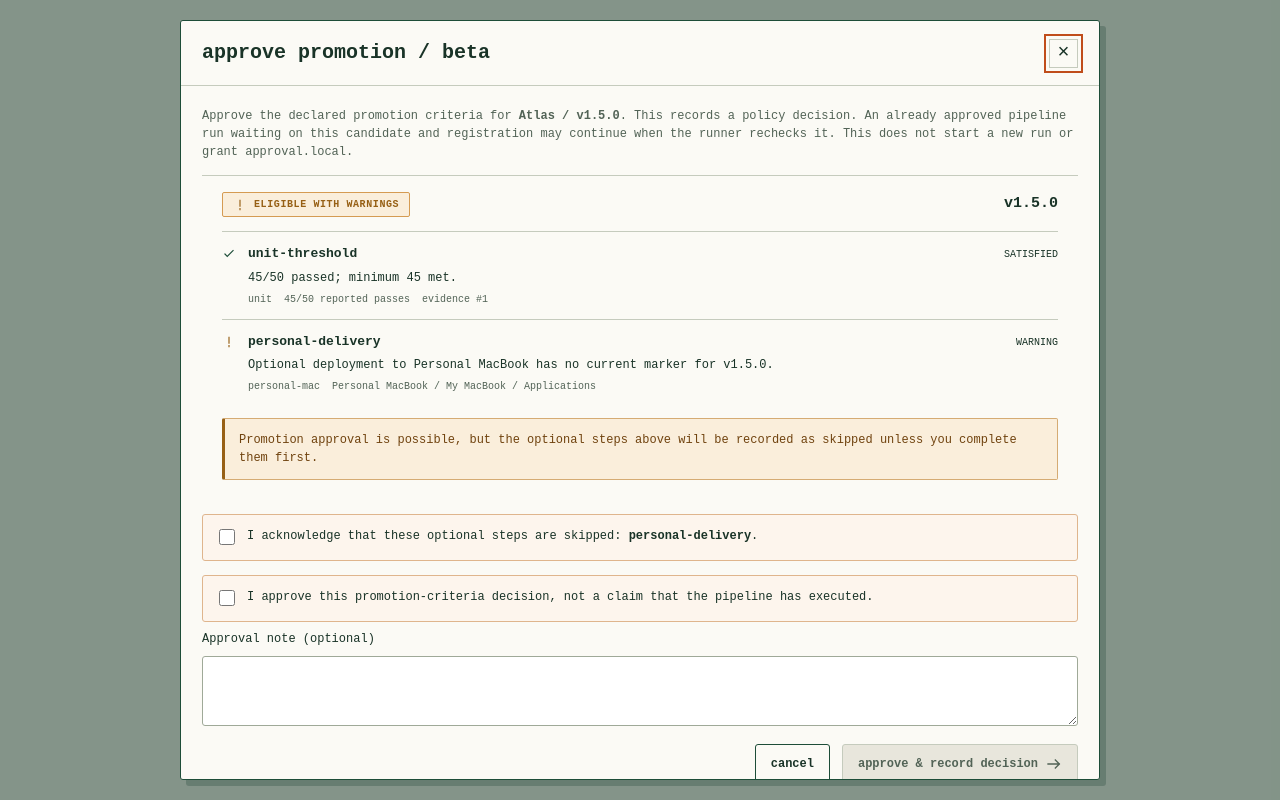
Test: promotion approval and skipped steps › invalidates both approvals when evidence changes before the server transaction
Click the checkbox labelled "I approve this".
click(227, 598)  # box [219,590,235,606]
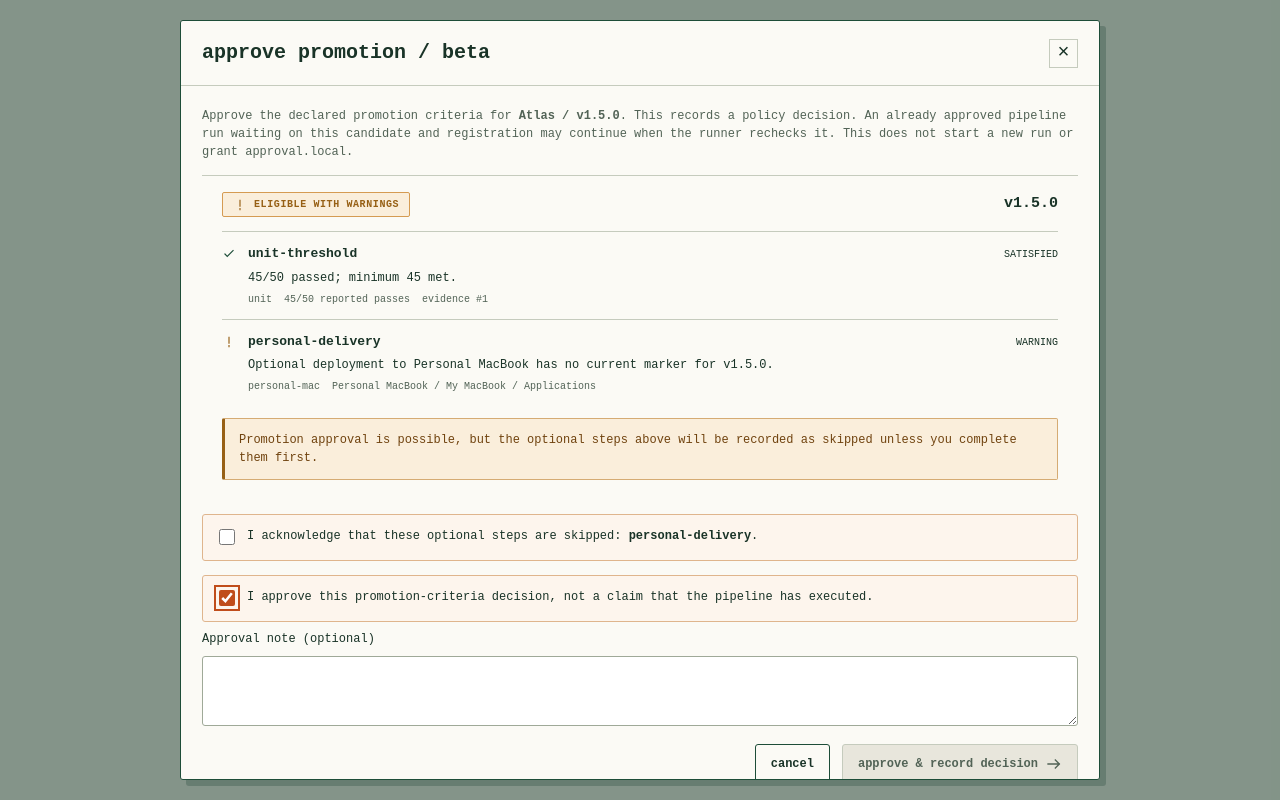
Click the checkbox labelled "I acknowledge".
click(227, 537)  # box [219,529,235,545]
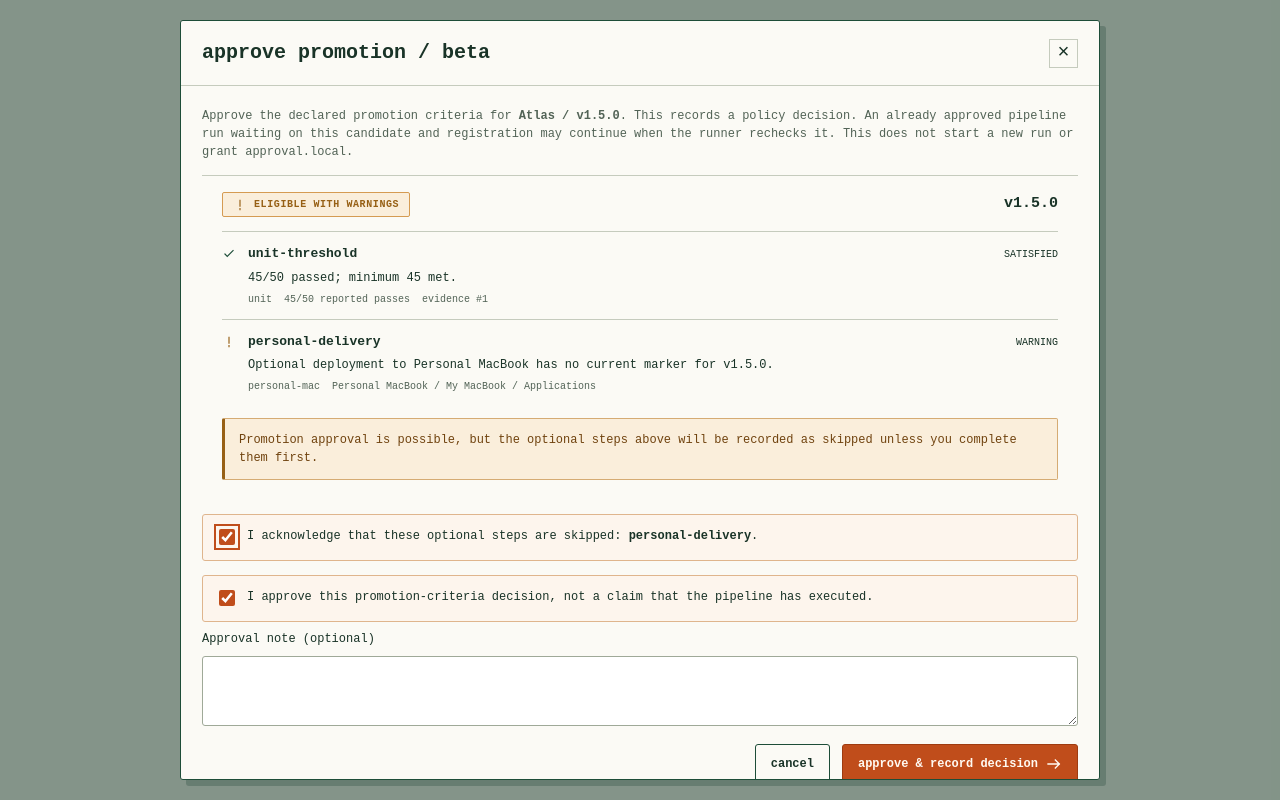
Click the button "approve & record decision".
click(960, 764)  # box [842,744,1078,784]
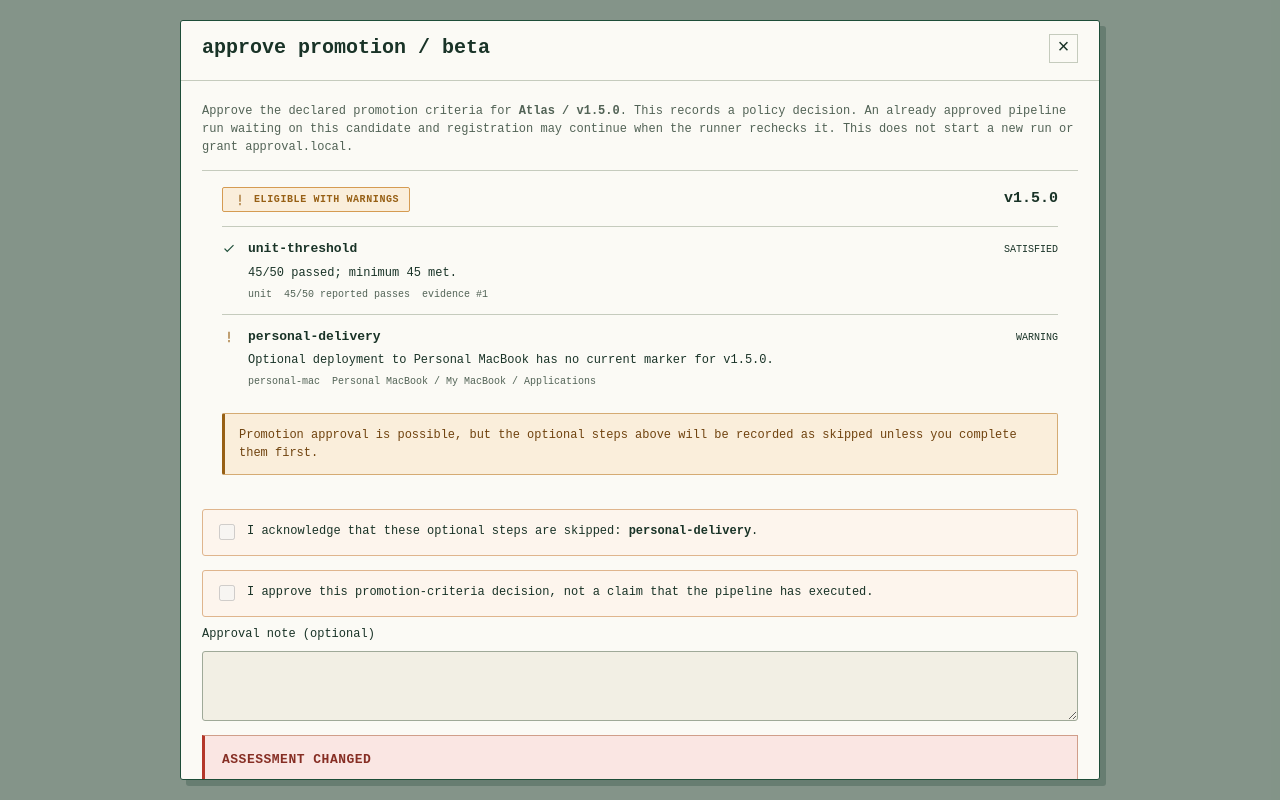
expect the 1st checkbox is not checked: met, box [219,524,235,540]
expect the 2nd checkbox is not checked: met, box [219,585,235,601]
expect the 1st checkbox is disabled: met, box [219,524,235,540]
